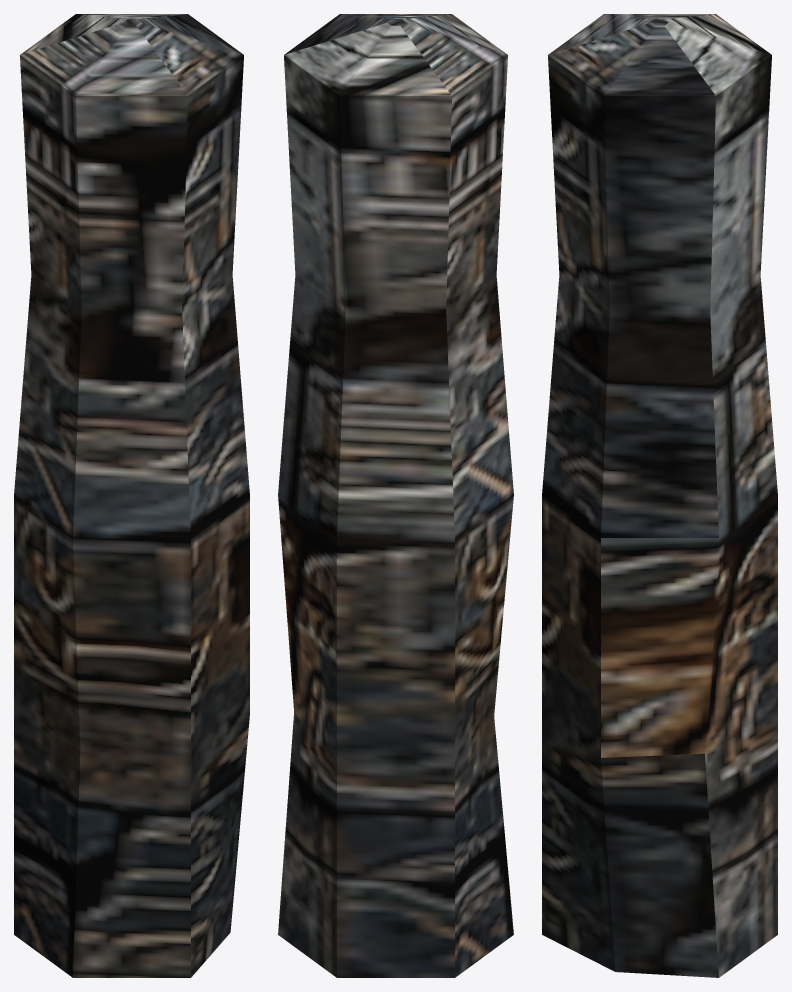
File: Totem2.fbx
The picture shows the model from 3 angles, left to right: view 1: azimuth 30°, elevation 25°; view 2: azimuth 150°, elevation 25°; view 3: azimuth 270°, elevation 25°; orthographic projection.
Visible parts, largest first — view 1: Circle.104; view 2: Circle.104; view 3: Circle.104.
Boxes of the visible parts, left/top/right/bottom form: Circle.104: left=14, top=14, right=249, bottom=977; Circle.104: left=278, top=14, right=513, bottom=977; Circle.104: left=542, top=14, right=777, bottom=977.
Size of the model in its own units: 78.04 by 384 by 90.12.
